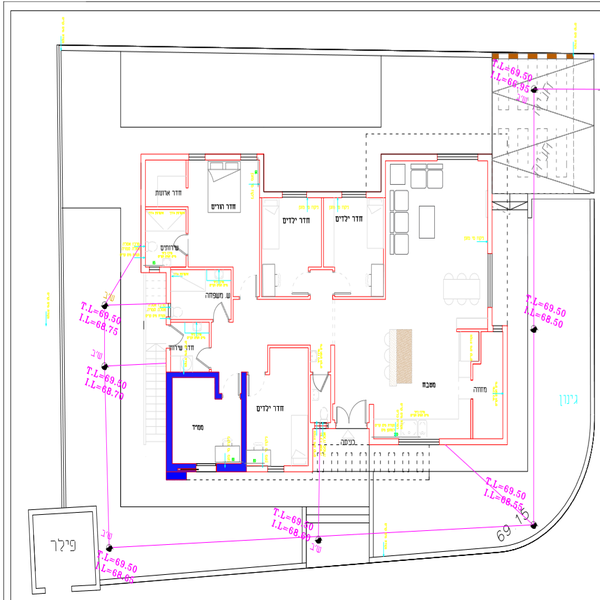door: (333, 399, 373, 427), (168, 231, 202, 254), (209, 297, 233, 325), (163, 322, 186, 350), (195, 345, 217, 369), (313, 369, 333, 391)
wall: (164, 378, 183, 480), (300, 339, 314, 468), (252, 203, 267, 302), (137, 161, 150, 271), (485, 154, 498, 255), (237, 374, 249, 476), (164, 367, 219, 385), (442, 434, 507, 449), (317, 195, 327, 273), (140, 147, 186, 163), (501, 326, 507, 444), (253, 294, 310, 304), (266, 342, 310, 354), (148, 266, 235, 272), (330, 346, 338, 403), (217, 458, 241, 474), (332, 294, 388, 300)
window: (438, 150, 478, 167), (399, 433, 444, 443), (267, 459, 280, 474)
